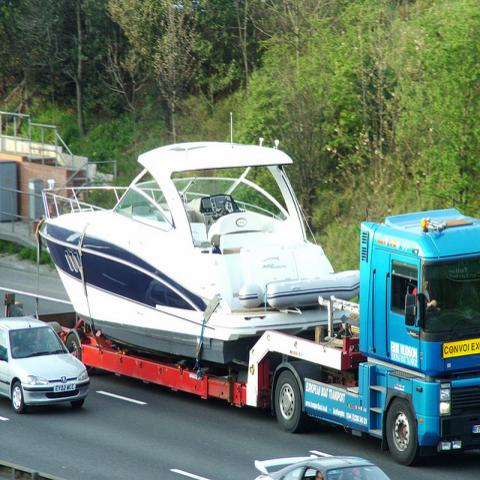car: (0, 316, 90, 415), (252, 454, 395, 479)
truck: (272, 204, 480, 462)
